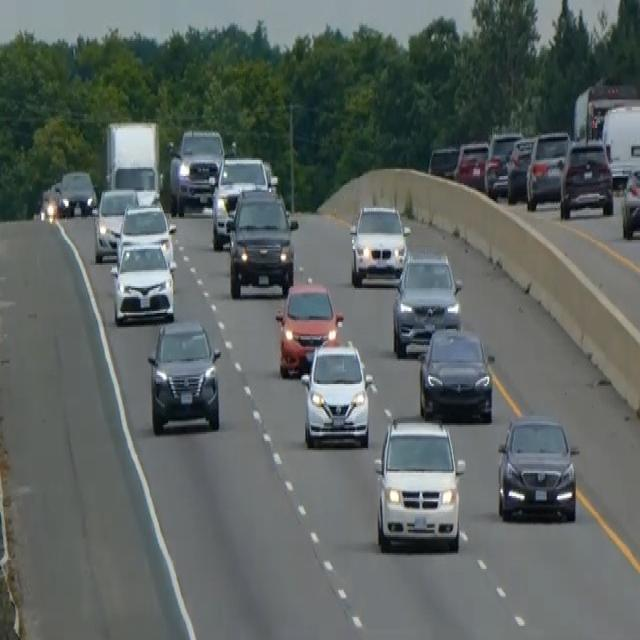car: (496, 412, 577, 522), (147, 316, 221, 434), (227, 185, 298, 299), (300, 336, 372, 448), (392, 250, 462, 356), (418, 325, 493, 423), (275, 279, 344, 377), (110, 238, 175, 324), (211, 155, 269, 249), (349, 201, 409, 286), (168, 126, 224, 215), (559, 137, 613, 219), (117, 201, 176, 272), (525, 130, 571, 210), (92, 185, 138, 261), (601, 101, 639, 187), (483, 130, 521, 199), (505, 135, 535, 203), (56, 169, 96, 217), (217, 155, 268, 192), (454, 139, 488, 190), (621, 166, 639, 238), (427, 144, 458, 178), (38, 185, 60, 224), (262, 157, 279, 190)
lorry: (571, 76, 639, 144)
minivan: (372, 409, 466, 555)
truck: (102, 117, 161, 199)
